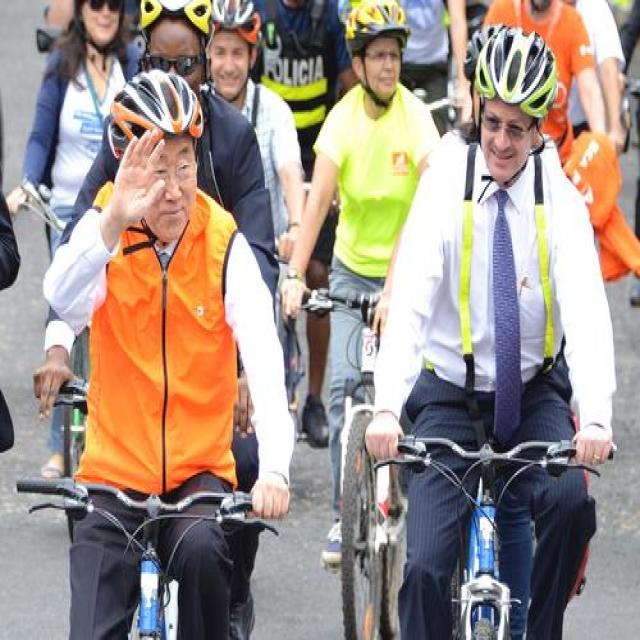bikerider: (344, 22, 628, 638), (31, 57, 296, 638), (304, 2, 452, 605)
